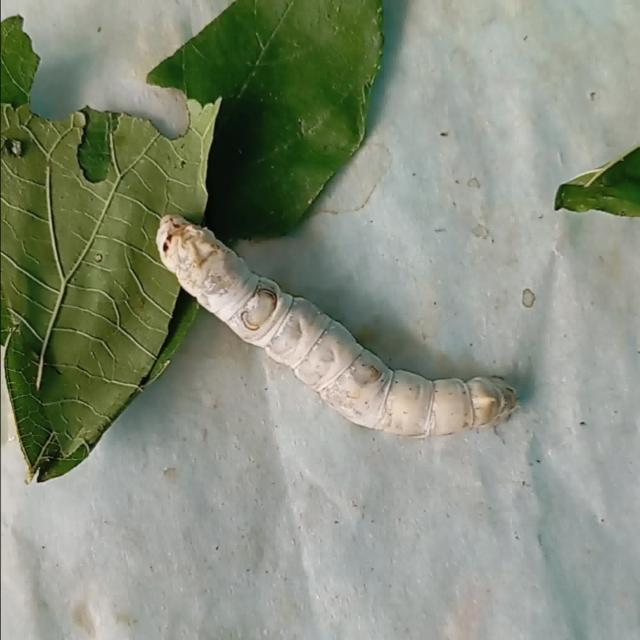Grasserie: (136, 198, 532, 443)
